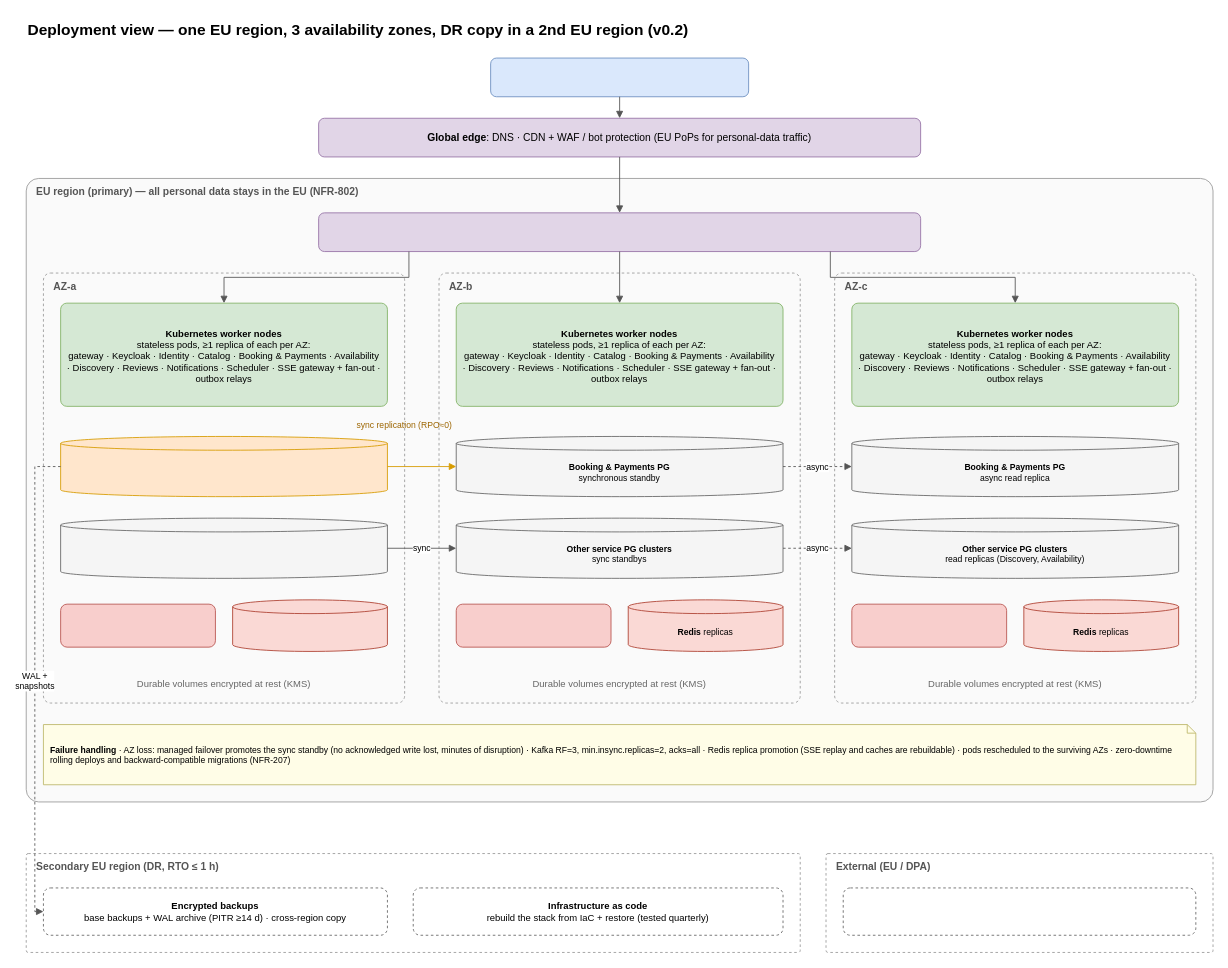
Some shapes in this 1228 by 968 pixel diagram are drawn without their labels. Each missing label, with the centre of its shape:
"Booking & Payments PG primary" goes at pixel 223 466.
"Clients (web, apps, widget)" goes at pixel 619 77.
"Email · SMS · Push (APNs / FCM)" goes at pixel 1019 911.
"Kafka broker 1" goes at pixel 137 625.
"Kafka broker 2" goes at pixel 533 625.
"Kafka broker 3" goes at pixel 929 625.
"Other service PG clusters (incl. Keycloak) primaries" goes at pixel 223 547.
"Redis shard primaries" goes at pixel 309 625.
"Regional L7 load balancer + API Gateway (multi-AZ)" goes at pixel 619 232.
